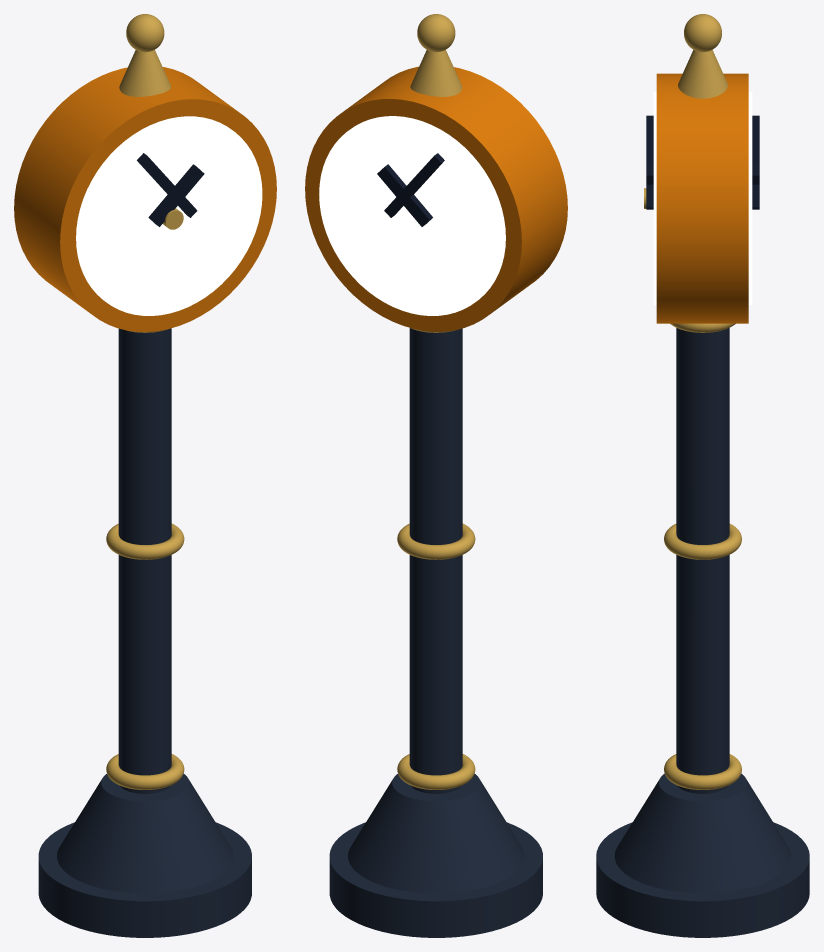
File: station_clock.glb
3 renders of one model, left to right at view 1: azimuth 30°, elevation 25°; view 2: azimuth 150°, elevation 25°; view 3: azimuth 270°, elevation 25°, orthographic.
Visible parts, largest first — view 1: clock_dial, clock_case, post, base2, base1, finial_stem, collar_1, collar_0, finial_ball, hour_F, min_F; view 2: clock_dial, clock_case, post, base2, base1, finial_stem, collar_0, collar_1, finial_ball, hour_B, min_B; view 3: post, clock_case, base2, base1, clock_dial, finial_stem, collar_1, collar_0, finial_ball, min_B, min_F, collar_2.
Part boxes in pixels (x1,y1,x2,y2): clock_dial: (76,116,262,315); clock_case: (14,67,276,331); post: (118,328,171,793); base2: (57,774,233,893); base1: (38,822,251,937); finial_stem: (119,50,170,96); collar_1: (106,523,184,559); collar_0: (106,754,184,789); finial_ball: (126,14,164,52); hour_F: (148,164,204,226); min_F: (137,153,197,217); clock_dial: (319,116,505,315); clock_case: (305,66,567,331); post: (409,328,462,793); base2: (348,774,524,893); base1: (329,822,542,937); finial_stem: (410,50,462,96); collar_0: (397,754,475,789); collar_1: (397,523,475,559); finial_ball: (417,14,455,52); hour_B: (377,164,432,226); min_B: (384,153,444,217); post: (676,328,729,793); clock_case: (656,73,748,323); base2: (614,773,791,893); base1: (596,822,809,937); clock_dial: (653,92,752,305); finial_stem: (678,50,727,98); collar_1: (664,524,741,559); collar_0: (664,754,741,789); finial_ball: (684,14,721,52); min_B: (752,115,759,209); min_F: (646,115,653,209); collar_2: (670,323,735,332).
Bounding box in the file's own units: 0.34 × 1.31 × 0.29.
